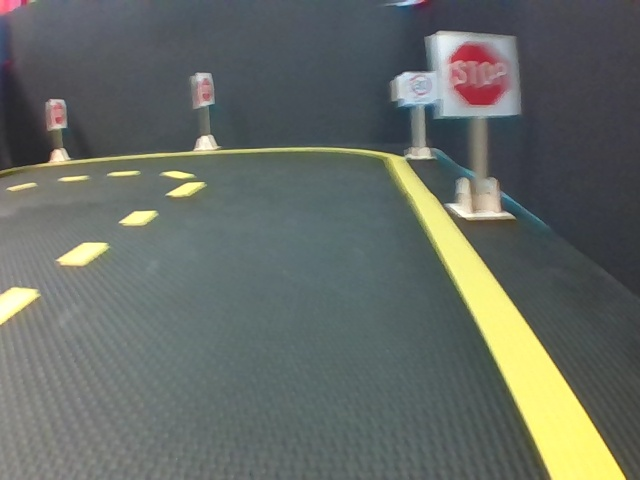30: (403, 71, 436, 106)
stop: (436, 33, 523, 116), (194, 73, 212, 105), (49, 98, 64, 128)
